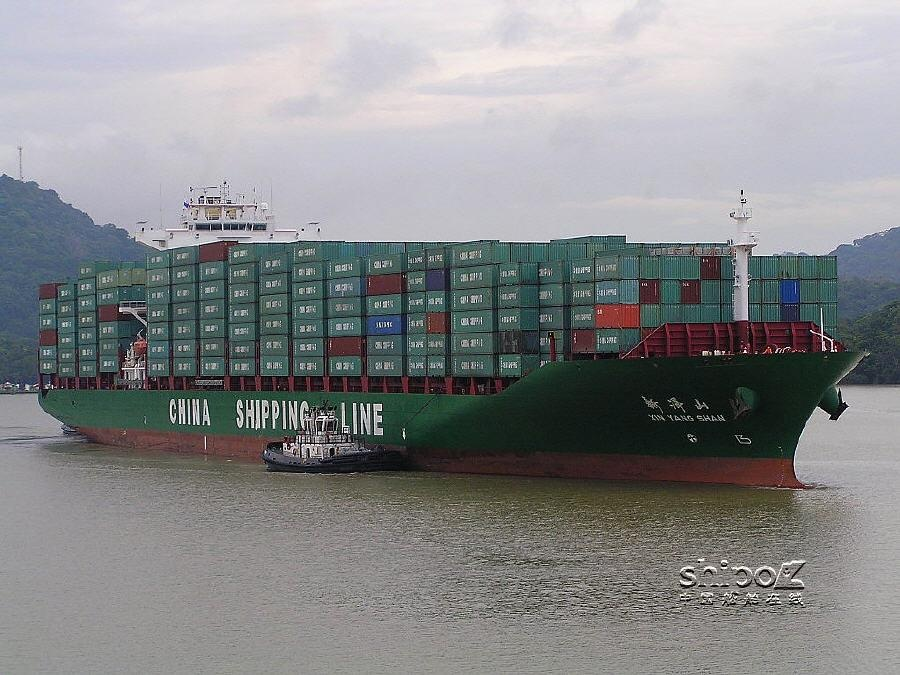Cargoship: (31, 189, 871, 490)
otherboat: (266, 401, 408, 480)
